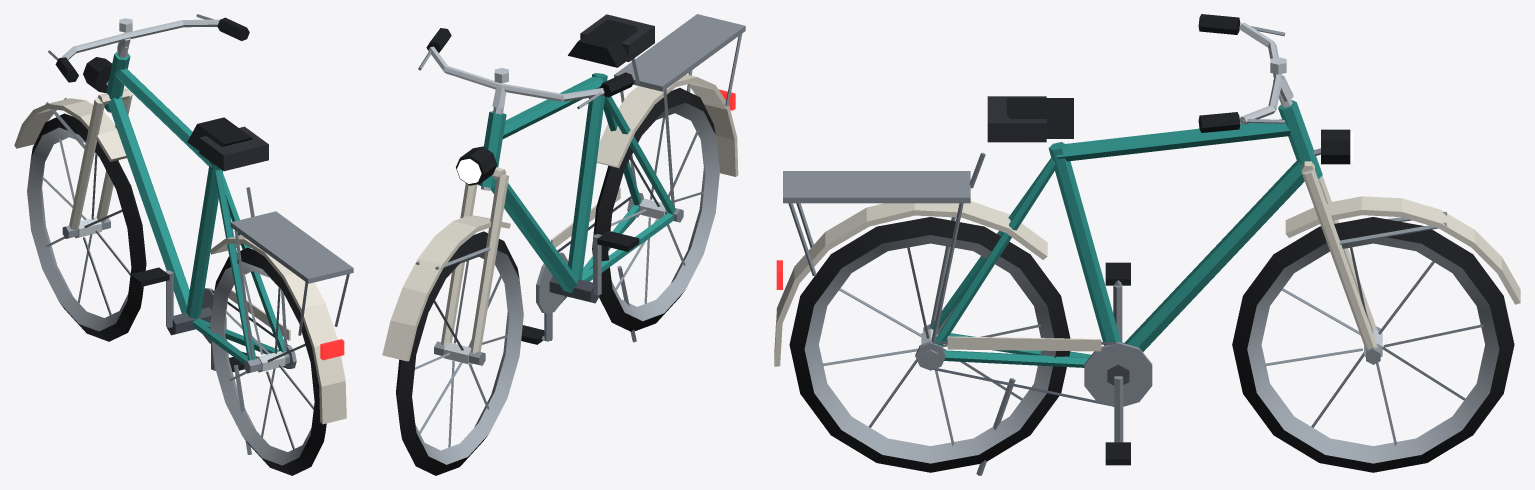
File: bicycle.glb
The picture shows the model from 3 angles, left to right: view 1: azimuth 30°, elevation 25°; view 2: azimuth 150°, elevation 25°; view 3: azimuth 270°, elevation 25°; orthographic projection. The views are drawn at different scales.
Parts seen in each view (by area): view 1: Body, Wheel_F, Fork, Wheel_R, Pedals; view 2: Body, Fork, Wheel_R, Wheel_F, Pedals; view 3: Body, Wheel_F, Wheel_R, Fork, Pedals.
Boxes of the visible parts, box(x1,y1,x2,y2) form: Body: box(104, 18, 353, 454); Wheel_F: box(27, 113, 146, 341); Fork: box(14, 14, 249, 238); Wheel_R: box(210, 247, 326, 475); Pedals: box(130, 267, 244, 371); Body: box(478, 14, 745, 342); Fork: box(382, 28, 634, 365); Wheel_R: box(592, 88, 719, 331); Wheel_F: box(396, 231, 523, 475); Pedals: box(521, 231, 639, 344); Body: box(774, 57, 1322, 475); Wheel_F: box(1232, 217, 1514, 472); Wheel_R: box(789, 217, 1070, 472); Fork: box(1198, 14, 1520, 364); Pedals: box(1084, 262, 1152, 465).
Bounding box in the file's own units: 0.611 × 1.09 × 1.77.
